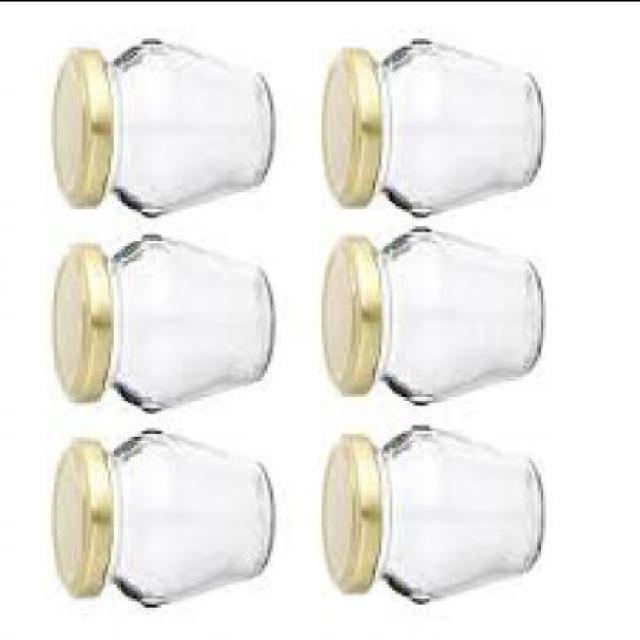GLASS: (370, 427, 538, 605), (102, 234, 267, 415), (373, 228, 538, 406), (105, 433, 270, 609), (102, 40, 267, 215), (378, 43, 538, 219)
METAL: (316, 242, 381, 398), (46, 244, 108, 402), (49, 54, 111, 211), (318, 48, 378, 210), (51, 444, 111, 601), (324, 438, 382, 594)
